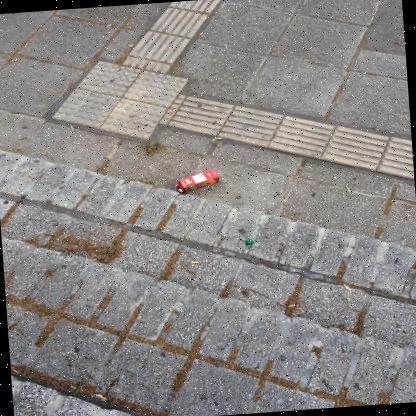Cigarette: (191, 261, 199, 264), (288, 305, 295, 308), (199, 32, 203, 35)
Drink carton: (175, 169, 220, 193)
Plastic bottle cap: (246, 239, 254, 244)
